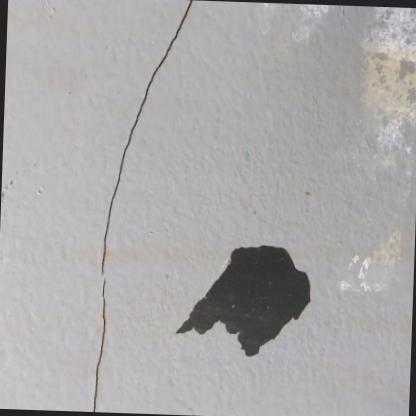crack: (101, 0, 192, 275), (92, 279, 104, 412)
